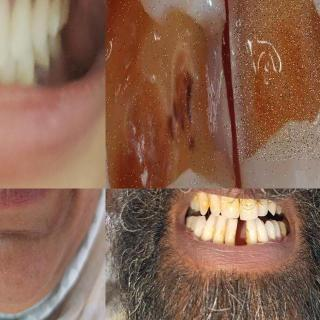cavities: (105, 0, 226, 188), (236, 0, 320, 158)
plaque: (254, 228, 262, 242), (206, 192, 214, 202)
stains: (212, 226, 225, 240), (203, 198, 215, 212), (225, 196, 235, 212), (242, 226, 252, 242), (227, 228, 237, 240), (240, 198, 248, 212), (216, 197, 222, 212), (209, 224, 215, 238), (194, 196, 200, 208), (258, 199, 264, 209)
